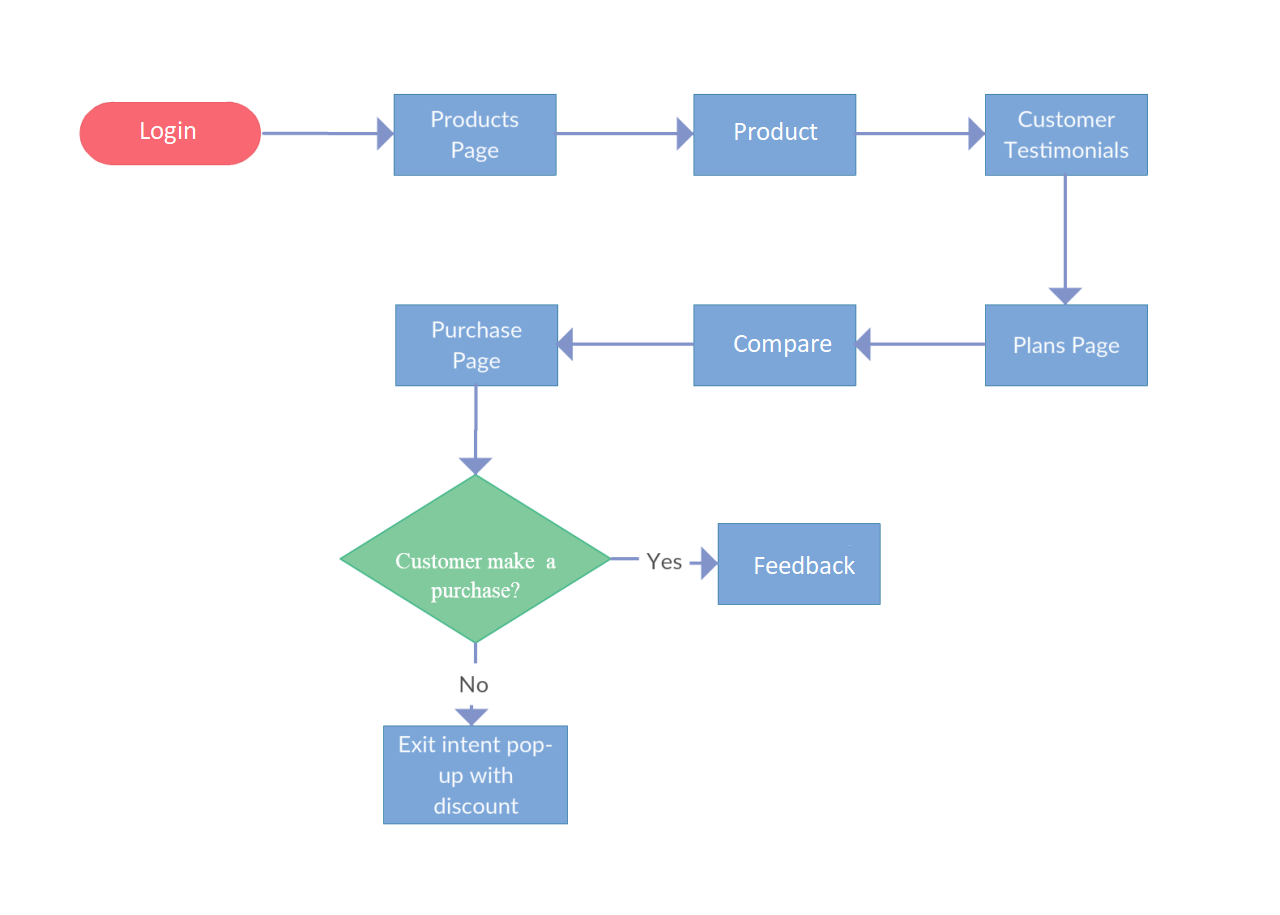arrow: (851, 328, 990, 366), (259, 115, 391, 154), (850, 115, 990, 151), (1047, 176, 1086, 303), (555, 329, 698, 360), (553, 121, 708, 148), (455, 387, 493, 479), (612, 546, 716, 579), (454, 640, 491, 725)
decision: (334, 471, 614, 647)
process: (378, 723, 575, 830), (689, 90, 864, 186), (389, 300, 565, 390), (982, 300, 1153, 390), (989, 91, 1154, 183), (689, 301, 861, 389), (393, 91, 557, 179), (716, 521, 884, 605)
terminator: (75, 97, 264, 167)
text: (397, 730, 564, 821), (393, 541, 566, 611), (1009, 108, 1139, 165), (419, 316, 536, 373), (425, 107, 530, 164), (1007, 329, 1129, 366), (721, 112, 825, 155), (732, 330, 841, 364), (750, 553, 861, 583), (131, 116, 202, 146), (644, 550, 689, 573), (457, 673, 489, 696)
